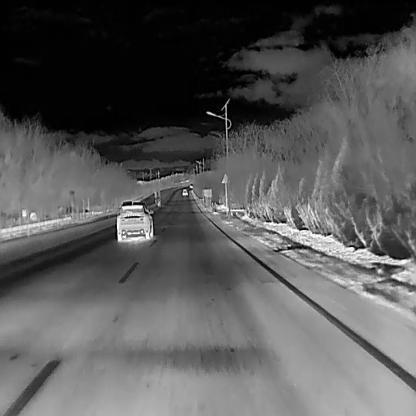car: (115, 198, 153, 242), (182, 188, 187, 195)
